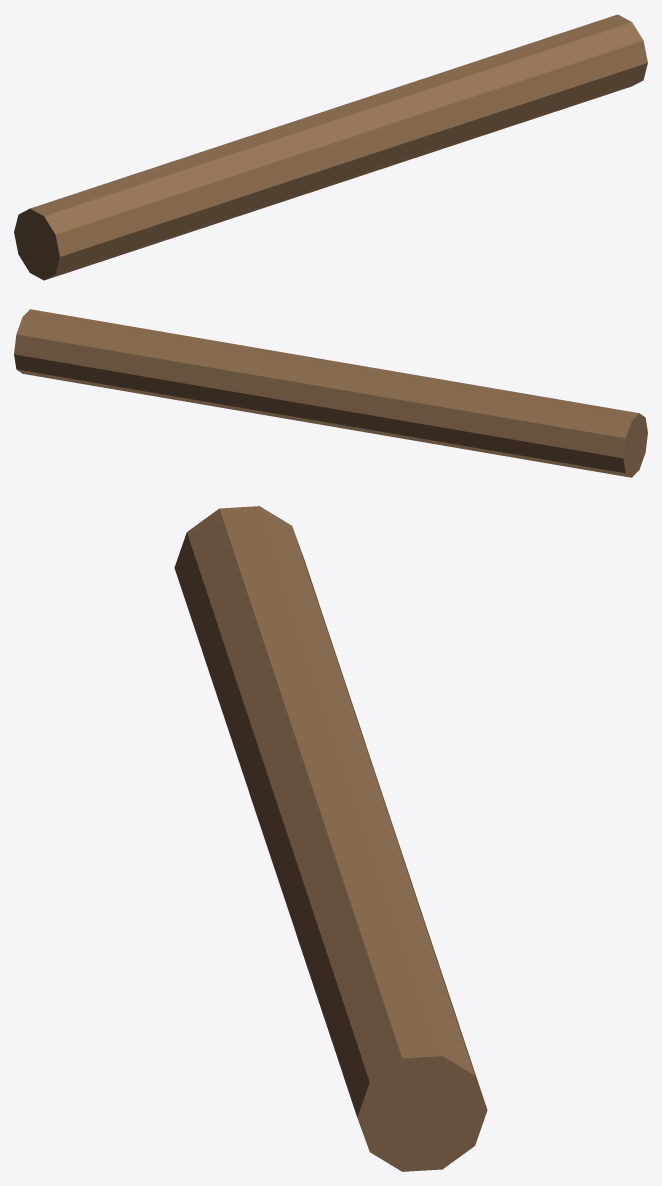
Rendered from z4_tronco_3_lev1.glb.
3 renders of one model, top to bottom at view 1: azimuth 30°, elevation 25°; view 2: azimuth 150°, elevation 25°; view 3: azimuth 270°, elevation 25°, orthographic. The views are drawn at different scales.
Parts seen in each view (by area): view 1: z4_tronco_3_lev1; view 2: z4_tronco_3_lev1; view 3: z4_tronco_3_lev1.
Part boxes in pixels (x1,y1,x2,y2): z4_tronco_3_lev1: (14, 14, 647, 280); z4_tronco_3_lev1: (14, 309, 647, 477); z4_tronco_3_lev1: (174, 506, 487, 1171).
Size of the model in its own units: 4.82 by 0.4565 by 1.14.
